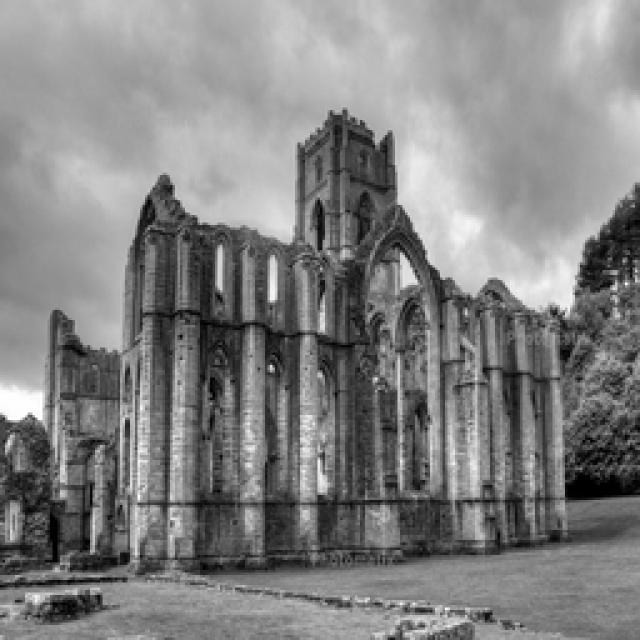Abbey: (42, 134, 581, 532)
